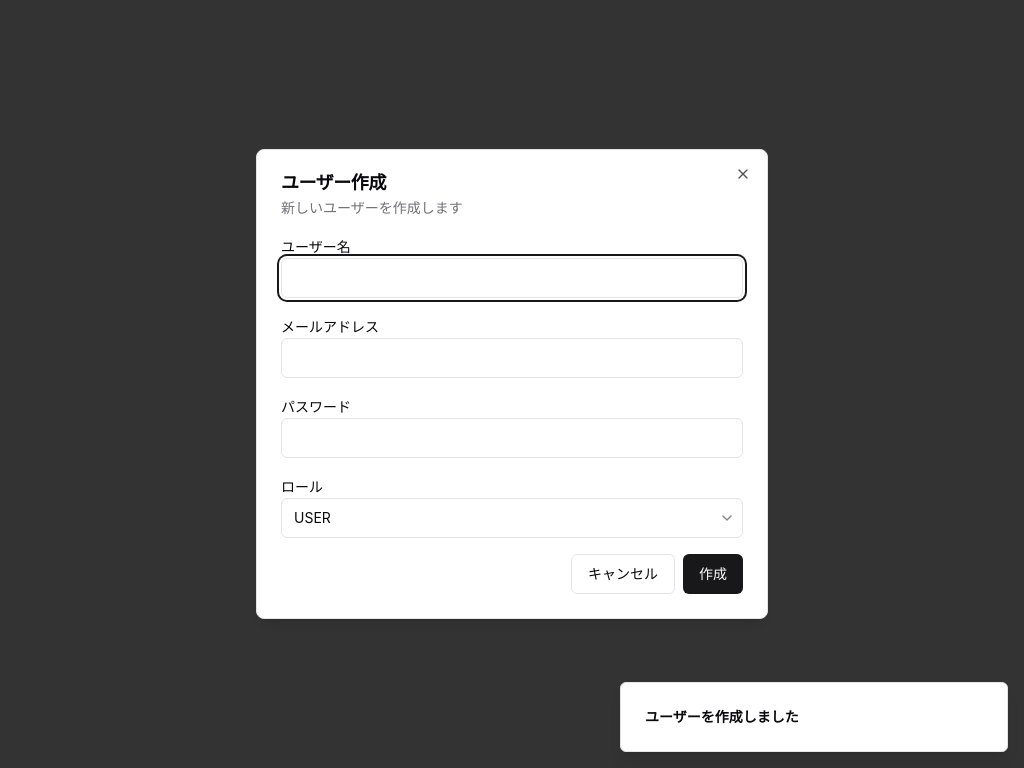
Scenario: UserFormDialog: 作成モード › 作成失敗 → エラートーストを表示する
Step 1. Type "newuser" into the field labelled "ユーザー名" → (512, 278), box [281,258,743,298]
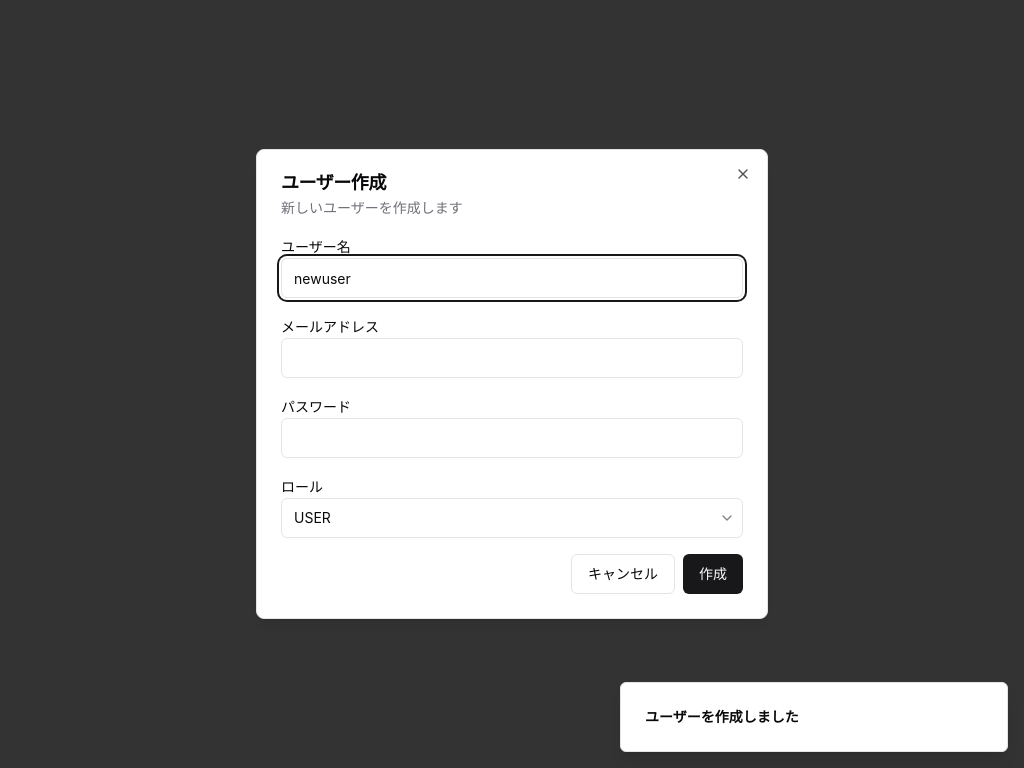
Step 2. Type "new@example.com" into the field labelled "メールアドレス" → (512, 358), box [281,338,743,378]
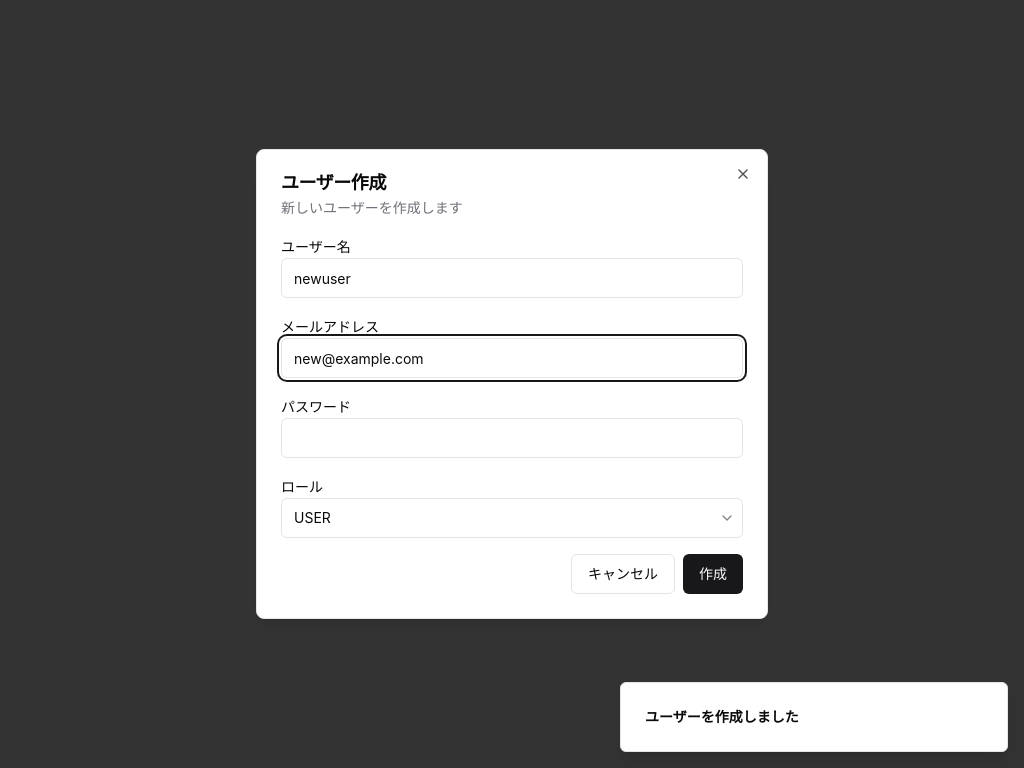
Step 3. Type "Password1!" into the password field labelled "パスワード" → (512, 438), box [281,418,743,458]
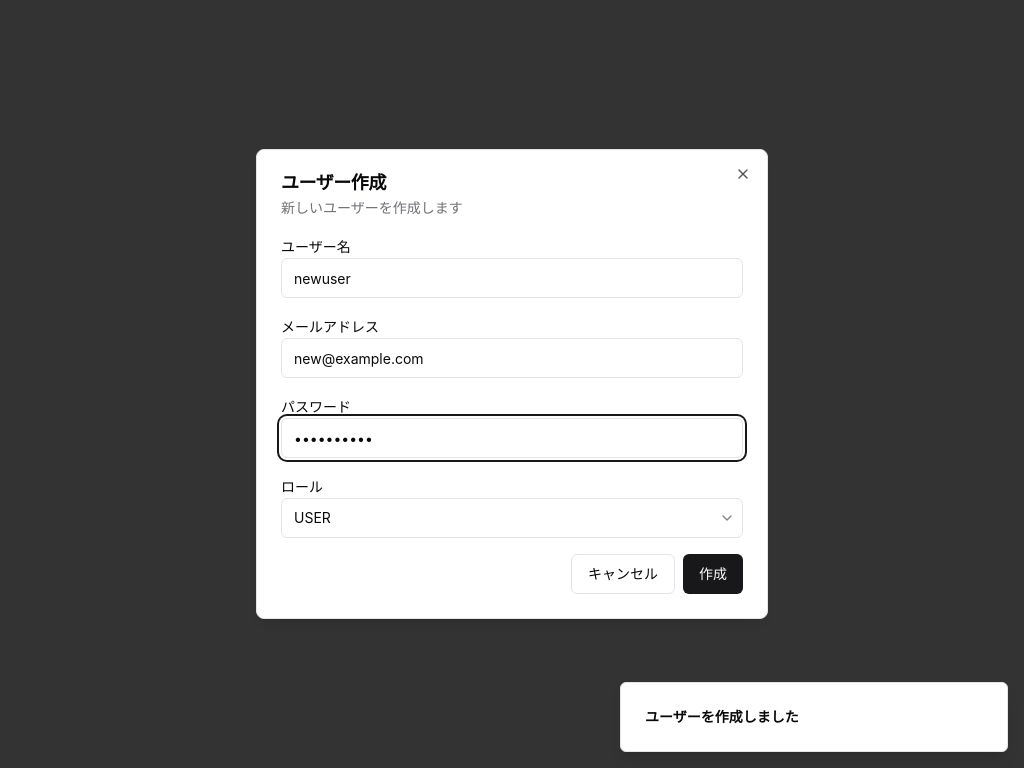
Step 4. Click the button "作成" → (713, 574), box [683,554,743,594]
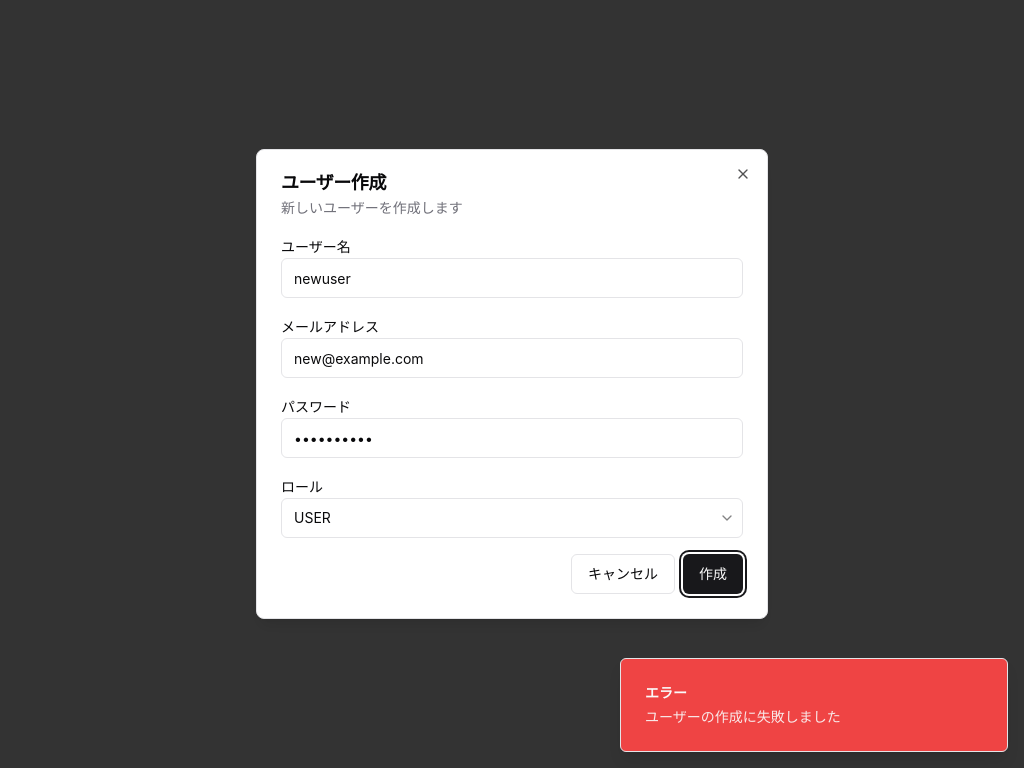
Check: the text "ユーザーの作成に失敗しました" is shown, box [645,707,841,727]
